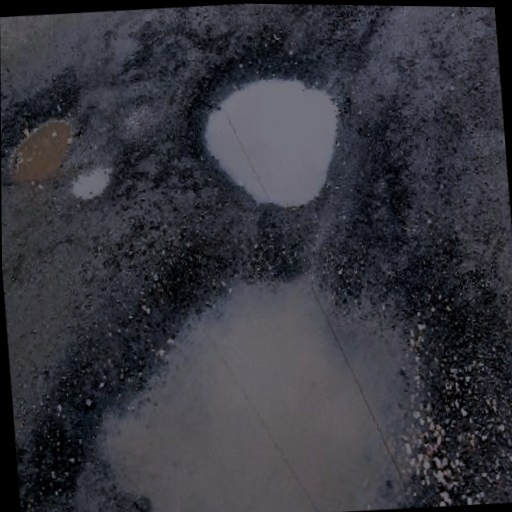pothole: (29, 216, 460, 512), (187, 42, 359, 217), (1, 85, 88, 190), (68, 156, 116, 204)
